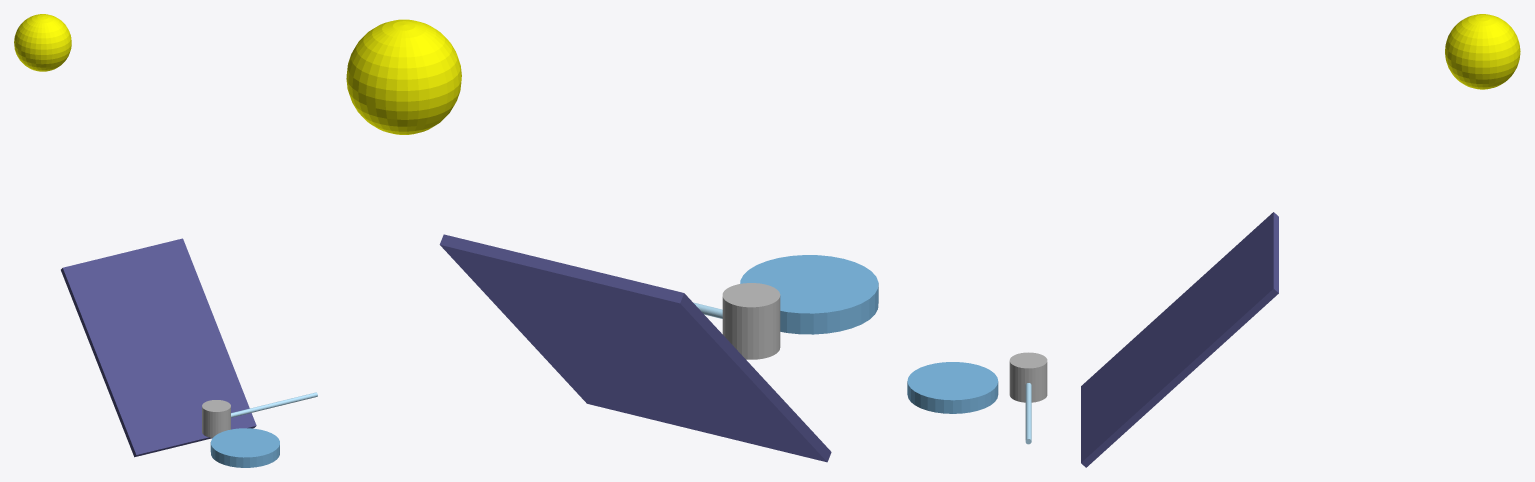
Rendered from pompe_solaire_v1.glb.
3 renders of one model, left to right at view 1: azimuth 30°, elevation 25°; view 2: azimuth 150°, elevation 25°; view 3: azimuth 270°, elevation 25°, orthographic. The views are drawn at different scales.
Visible parts, largest first — view 1: panneau_solaire, soleil, puits, pompe, jet_eau; view 2: panneau_solaire, soleil, puits, pompe; view 3: panneau_solaire, soleil, puits, pompe.
Boxes of the visible parts, bbox=[...] form: panneau_solaire: bbox=[61, 238, 256, 457]; soleil: bbox=[14, 14, 71, 71]; puits: bbox=[210, 428, 279, 467]; pompe: bbox=[202, 400, 230, 437]; jet_eau: bbox=[231, 392, 317, 417]; panneau_solaire: bbox=[439, 234, 831, 462]; soleil: bbox=[346, 19, 461, 134]; puits: bbox=[740, 255, 878, 334]; pompe: bbox=[722, 283, 780, 359]; panneau_solaire: bbox=[1081, 212, 1278, 467]; soleil: bbox=[1445, 14, 1520, 89]; puits: bbox=[907, 362, 998, 413]; pompe: bbox=[1009, 352, 1047, 402].
Size of what is drawn, in the model's own units: 3.2 by 6.01 by 8.1.
